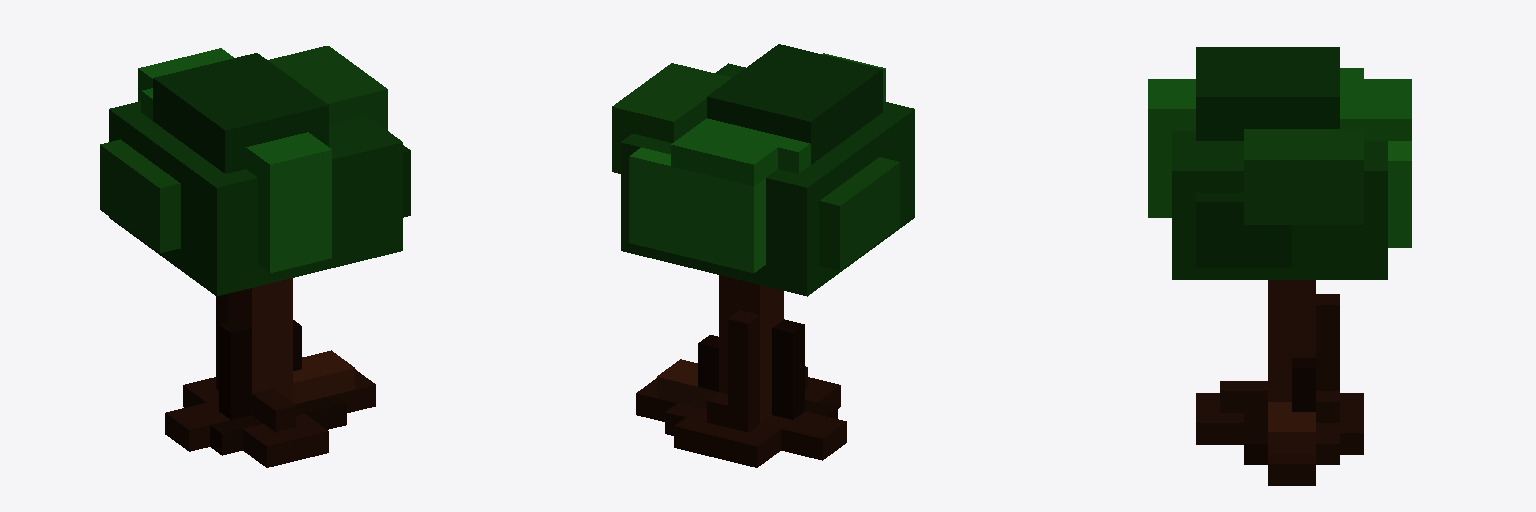
Rendered from Tree.obj.
3 views of the same model, side by side, from view 1: azimuth 30°, elevation 25°; view 2: azimuth 150°, elevation 25°; view 3: azimuth 270°, elevation 25° (orthographic).
Visible parts, largest first — view 1: Part131, Part141, Part191, Part181, Part81, Part201, Part101, Part41, Part1, Part51, Part31, Part71 (+3 smaller); view 2: Part131, Part141, Part151, Part181, Part201, Part161, Part81, Part1, Part21, Part101, Part121, Part51 (+4 smaller); view 3: Part131, Part141, Part201, Part211, Part81, Part191, Part161, Part151, Part121, Part51, Part41, Part21 (+6 smaller).
Boxes of the visible parts, box(x1,y1,x2,y2) form: Part131: box(109, 101, 402, 296); Part141: box(153, 53, 328, 173); Part191: box(246, 132, 331, 272); Part181: box(100, 139, 180, 252); Part81: box(228, 278, 292, 402); Part201: box(268, 46, 387, 130); Part101: box(219, 319, 251, 419); Part41: box(243, 414, 328, 467); Part1: box(165, 369, 375, 451); Part51: box(293, 350, 354, 403); Part31: box(210, 395, 346, 455); Part71: box(252, 388, 295, 432); Part131: box(621, 63, 914, 296); Part141: box(707, 44, 882, 164); Part151: box(629, 147, 765, 272); Part181: box(819, 157, 899, 270); Part201: box(612, 63, 731, 173); Part161: box(671, 118, 789, 185); Part81: box(719, 275, 783, 423); Part1: box(636, 378, 846, 460); Part21: box(674, 420, 780, 467); Part101: box(772, 319, 804, 419); Part121: box(728, 310, 759, 430); Part51: box(657, 359, 717, 410); Part131: box(1172, 131, 1387, 279); Part141: box(1196, 47, 1339, 140); Part201: box(1244, 129, 1363, 224); Part211: box(1196, 193, 1291, 267); Part81: box(1268, 280, 1315, 401); Part191: box(1148, 79, 1195, 217); Part161: box(1340, 79, 1411, 140); Part151: box(1388, 141, 1411, 247); Part121: box(1316, 294, 1339, 390); Part51: box(1268, 402, 1315, 453); Part41: box(1196, 393, 1243, 444); Part21: box(1316, 393, 1363, 454).
Size of the model in its own units: 11 by 16 by 11.